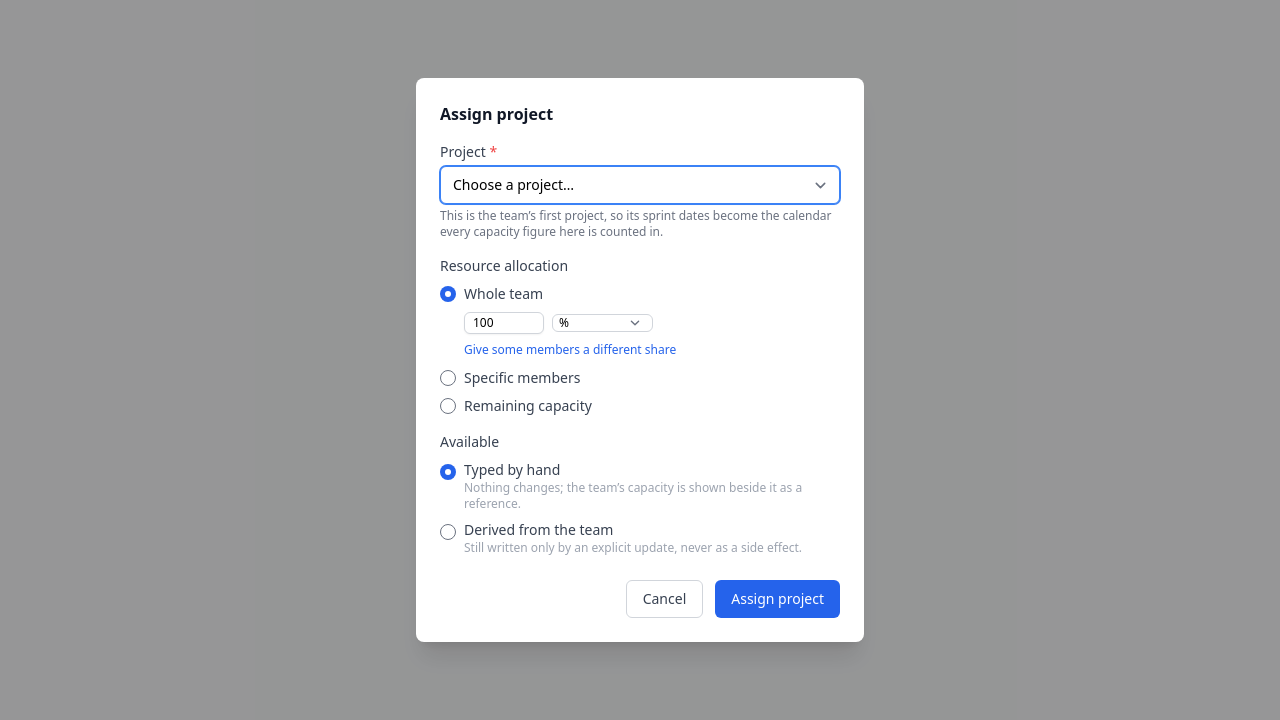
Scenario: AssignProjectModal › shows the backend’s reason when the sprint calendars disagree
Select "ISK Portal" in the dropdown labelled "Project *" at (640, 185), box [440,166,840,204]
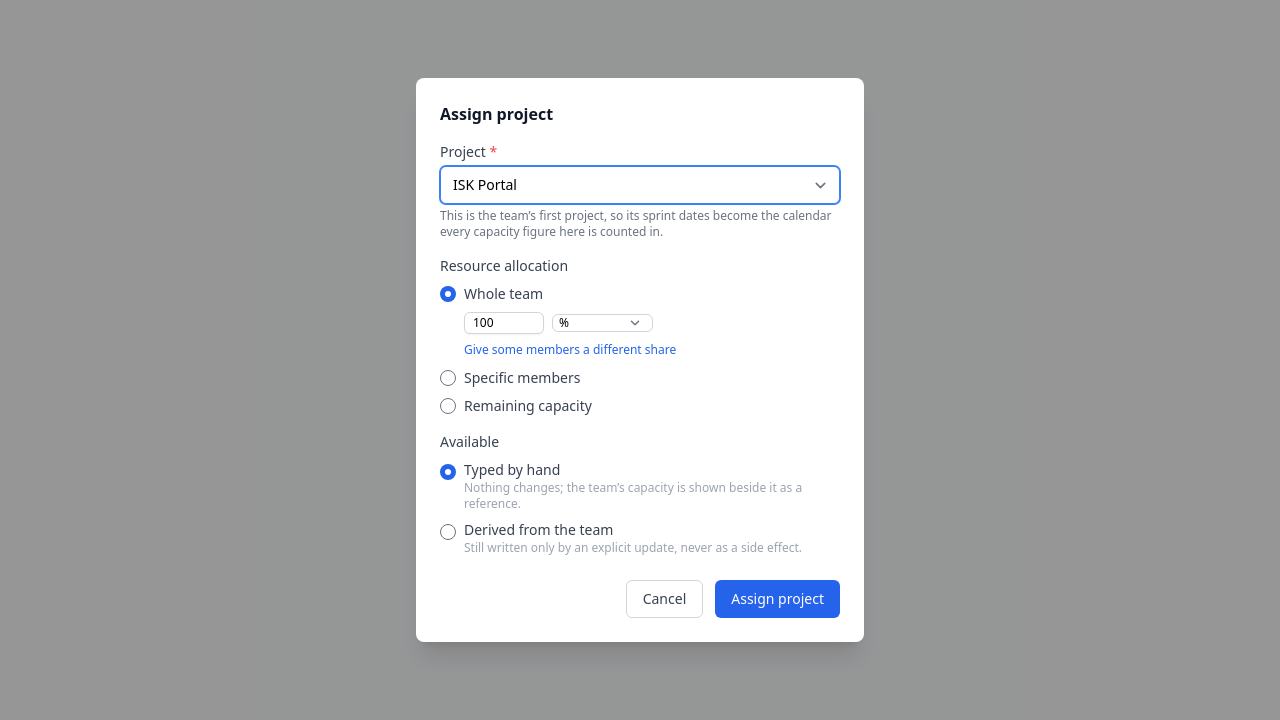
Click the button "Assign project" at (778, 599), box [715,580,840,618]
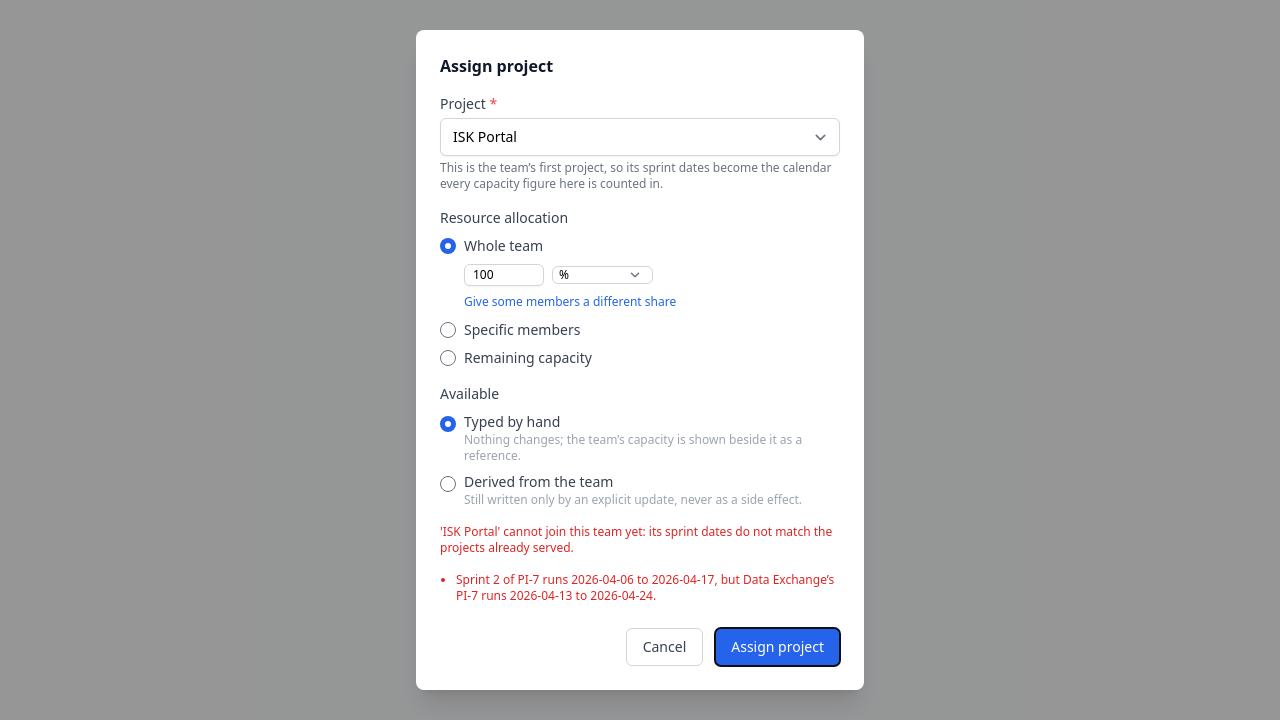
Expected: the message shows "do not match the projects", [440,523,832,556]
